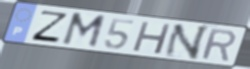5: (102, 17, 136, 50)
H: (130, 20, 174, 56)
M: (59, 12, 108, 50)
N: (161, 24, 212, 61)
R: (200, 27, 237, 63)
Z: (29, 9, 70, 44)
